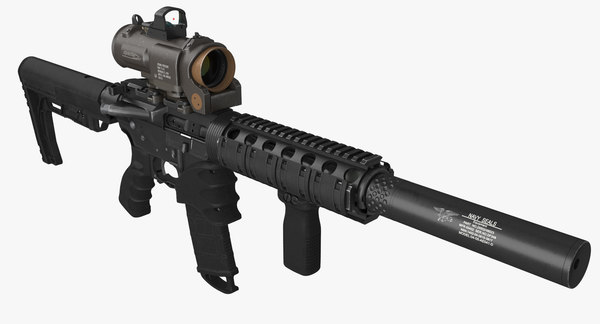m4_carbine: (115, 89, 236, 301)
